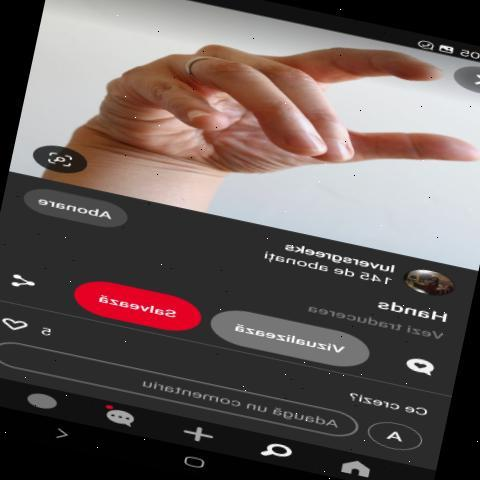Hands: (26, 30, 480, 189)
